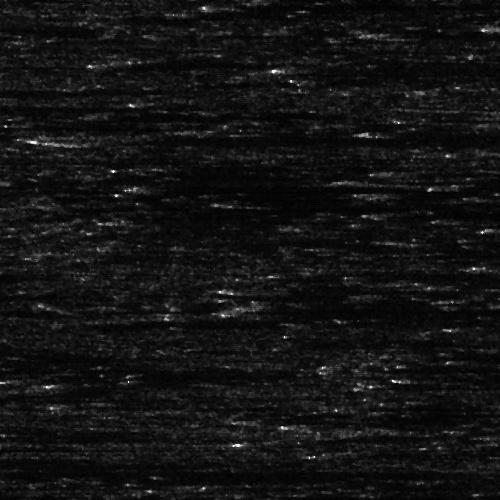object: (183, 297, 308, 318), (0, 127, 140, 144), (226, 61, 331, 74), (350, 27, 423, 38), (194, 285, 287, 292), (106, 56, 169, 65), (203, 0, 266, 9), (486, 23, 500, 30), (0, 471, 10, 478)
shadow: (57, 127, 473, 144), (0, 358, 267, 379), (246, 297, 487, 318), (0, 457, 262, 476), (279, 61, 500, 74), (235, 0, 500, 9), (138, 56, 307, 65), (387, 27, 500, 38), (241, 285, 405, 292), (0, 123, 93, 128), (0, 471, 37, 478), (0, 393, 29, 398), (0, 176, 12, 181)
